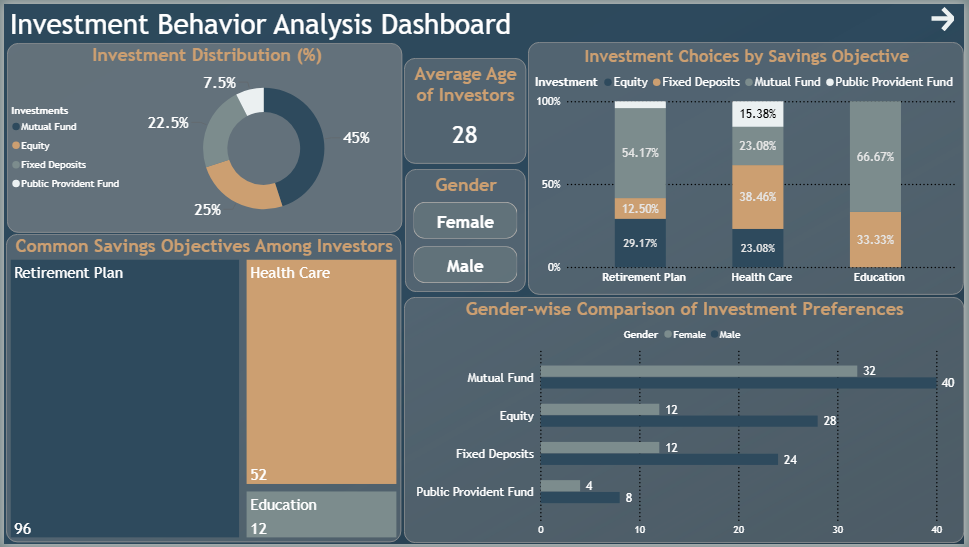

The dashboard page shown, as its layout file describes it:
{"tool":"powerbi","page":{"name":"Dashboard 1","canvas":[1280,720],"ordinal":0},"visuals":[{"type":"cardVisual","title":"Average Age of Investors","fields":{"Data":["Data.Average Age"]},"box":[532.9,72.3,162.6,140.6],"z":0},{"type":"textbox","box":[2.9,0,696.9,53.5],"z":1000},{"type":"donutChart","title":"Investment Distribution (%)","fields":{"Category":["Data.Avenue"],"Y":["CountNonNull(Data.Avenue)"]},"box":[4,52,526.7,253.3],"z":2000},{"type":"treemap","title":"Common Savings Objectives Among Investors","fields":{"Group":["Data.What are your savings objectives?"],"Values":["CountNonNull(Data.What are your savings objectives?)"]},"box":[2.7,306.7,526.7,410.7],"z":3000},{"type":"clusteredBarChart","title":"Gender-wise Comparison of Investment Preferences","fields":{"Category":["Data.Avenue"],"Y":["CountNonNull(Data.Source)"],"Series":["Data.gender"]},"box":[533.3,390.7,746.7,328],"z":4000},{"type":"hundredPercentStackedColumnChart","title":"Investment Choices by Savings Objective","fields":{"Category":["Data.What are your savings objectives?"],"Y":["CountNonNull(Data.Source)"],"Series":["Data.Avenue"]},"box":[698.7,50.7,581.3,337.3],"z":5000},{"type":"actionButton","box":[1230.4,0,49.2,40.5],"z":6000},{"type":"advancedSlicerVisual","title":"Gender","fields":{"Values":["Data.gender"]},"box":[534.2,220.6,161.3,163.9],"z":7001}]}

Visuals, with their boxes in screenshot pixels (x1, y1, x2, y2), scaled from the page's 1280x720 canvas onto the 969x547 screenshot:
"Average Age of Investors" cardVisual: box(403, 55, 527, 162)
textbox: box(2, 0, 530, 41)
"Investment Distribution (%)" donutChart: box(3, 40, 402, 232)
"Common Savings Objectives Among Investors" treemap: box(2, 233, 401, 545)
"Gender-wise Comparison of Investment Preferences" clusteredBarChart: box(404, 297, 968, 546)
"Investment Choices by Savings Objective" hundredPercentStackedColumnChart: box(529, 39, 968, 295)
actionButton: box(931, 0, 968, 31)
"Gender" advancedSlicerVisual: box(404, 168, 527, 292)
